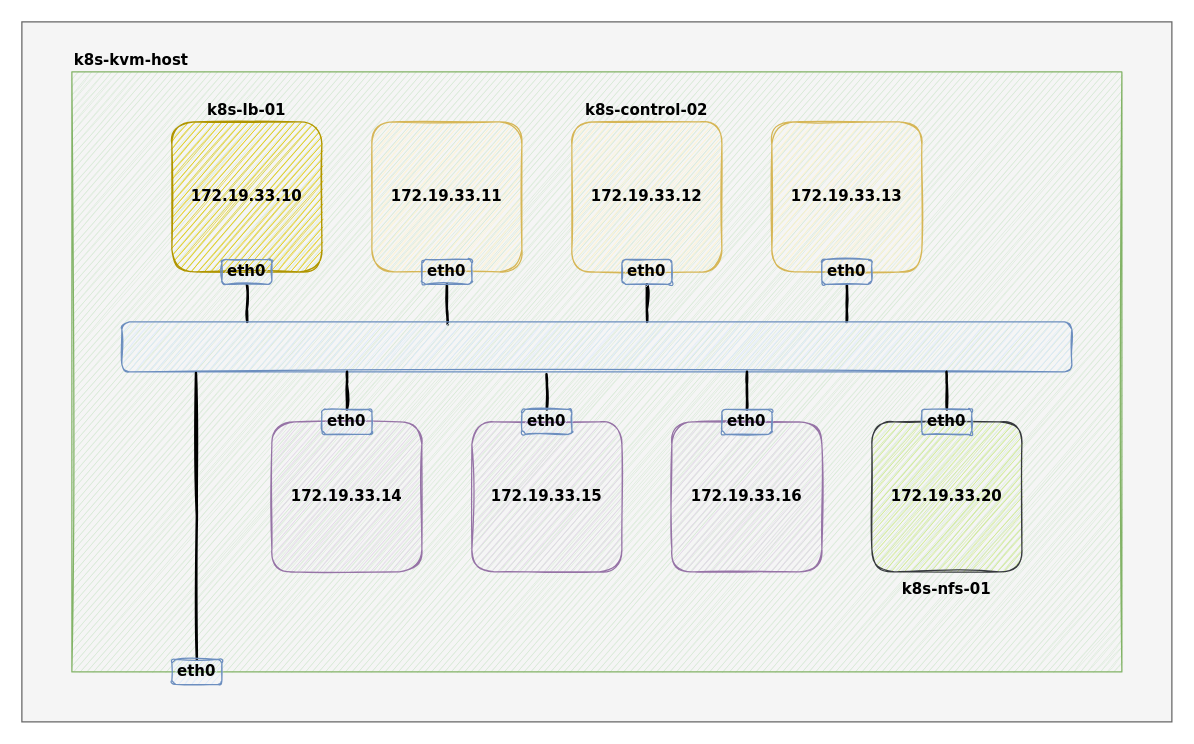
The diagram is 1194 pixels wide and 744 high, and some of its shapes have lost their labels. The box of each missing label's shape, as (x1, y1, x2, y2) in pixels:
bridge device (br-mgmt - 172.19.33.1): (121, 321, 1072, 372)
k8s-control-01: (371, 121, 522, 272)
k8s-control-03: (771, 121, 922, 272)
k8s-worker-01: (271, 421, 422, 572)
k8s-worker-02: (471, 421, 622, 572)
k8s-worker-03: (671, 421, 822, 572)
